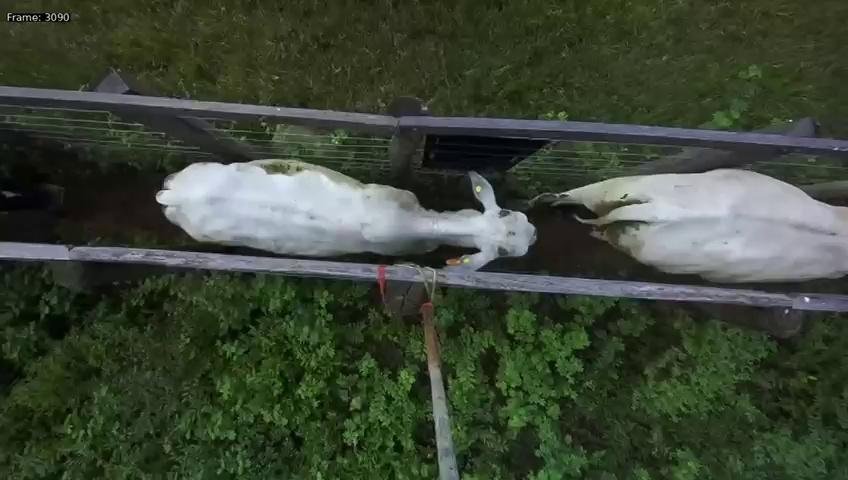cattle: (153, 163, 538, 270)
